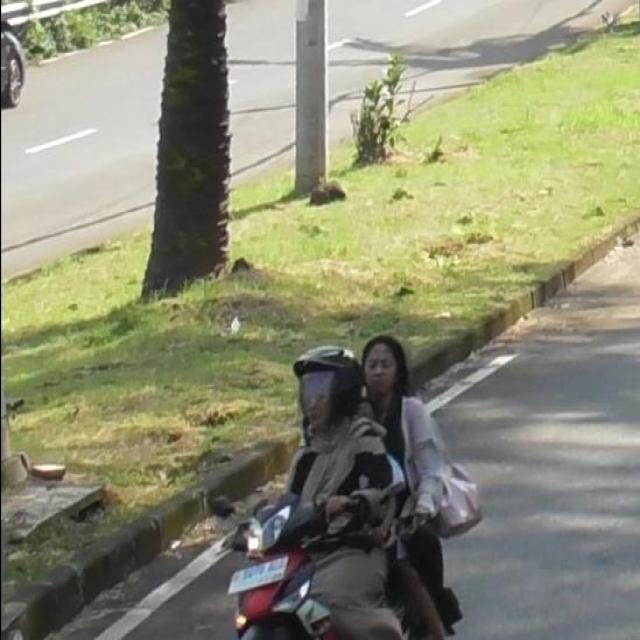motorcycle: (208, 481, 476, 640)
person: (356, 339, 472, 640), (286, 334, 402, 634)
rider_region: (210, 331, 480, 633)
